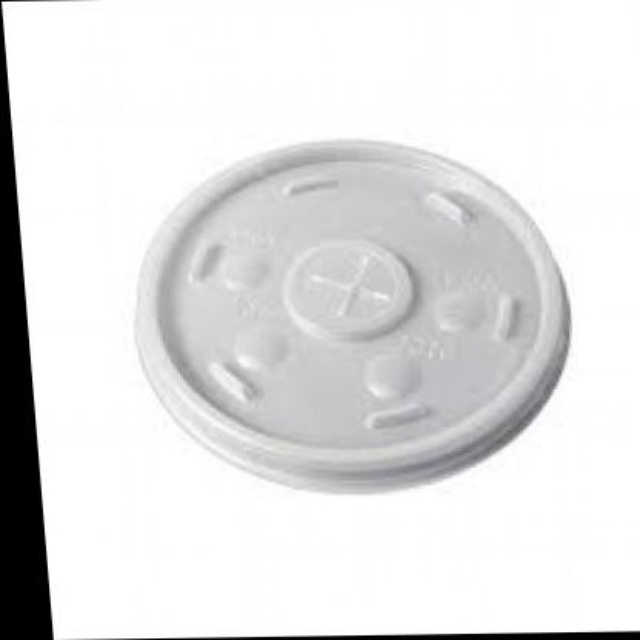trash: (137, 142, 568, 491)
